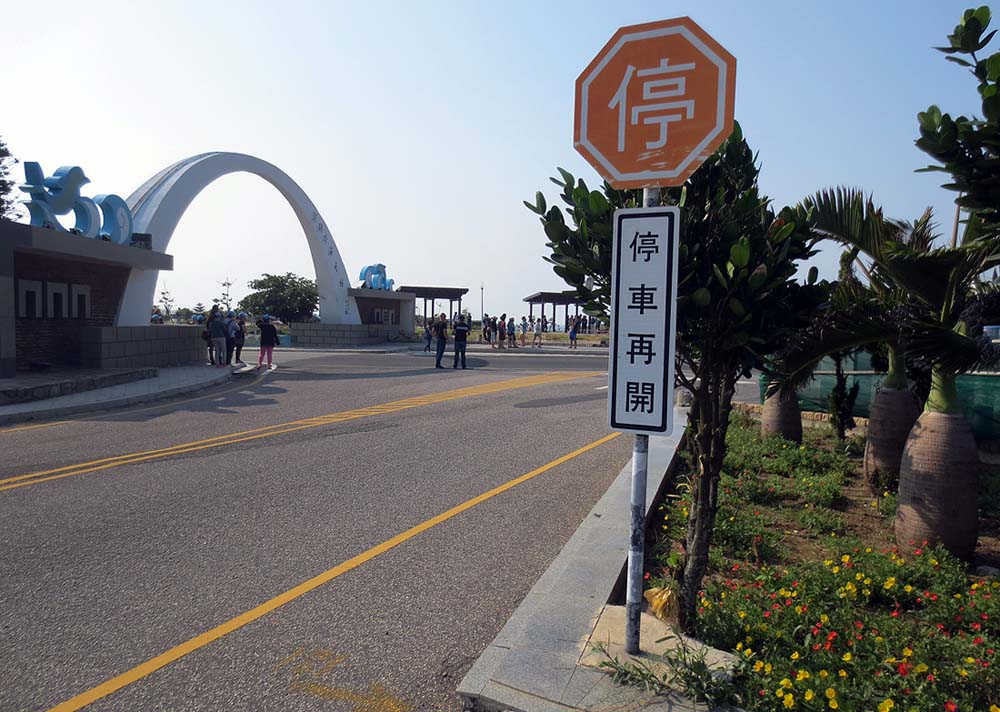stop: (575, 16, 734, 190)
